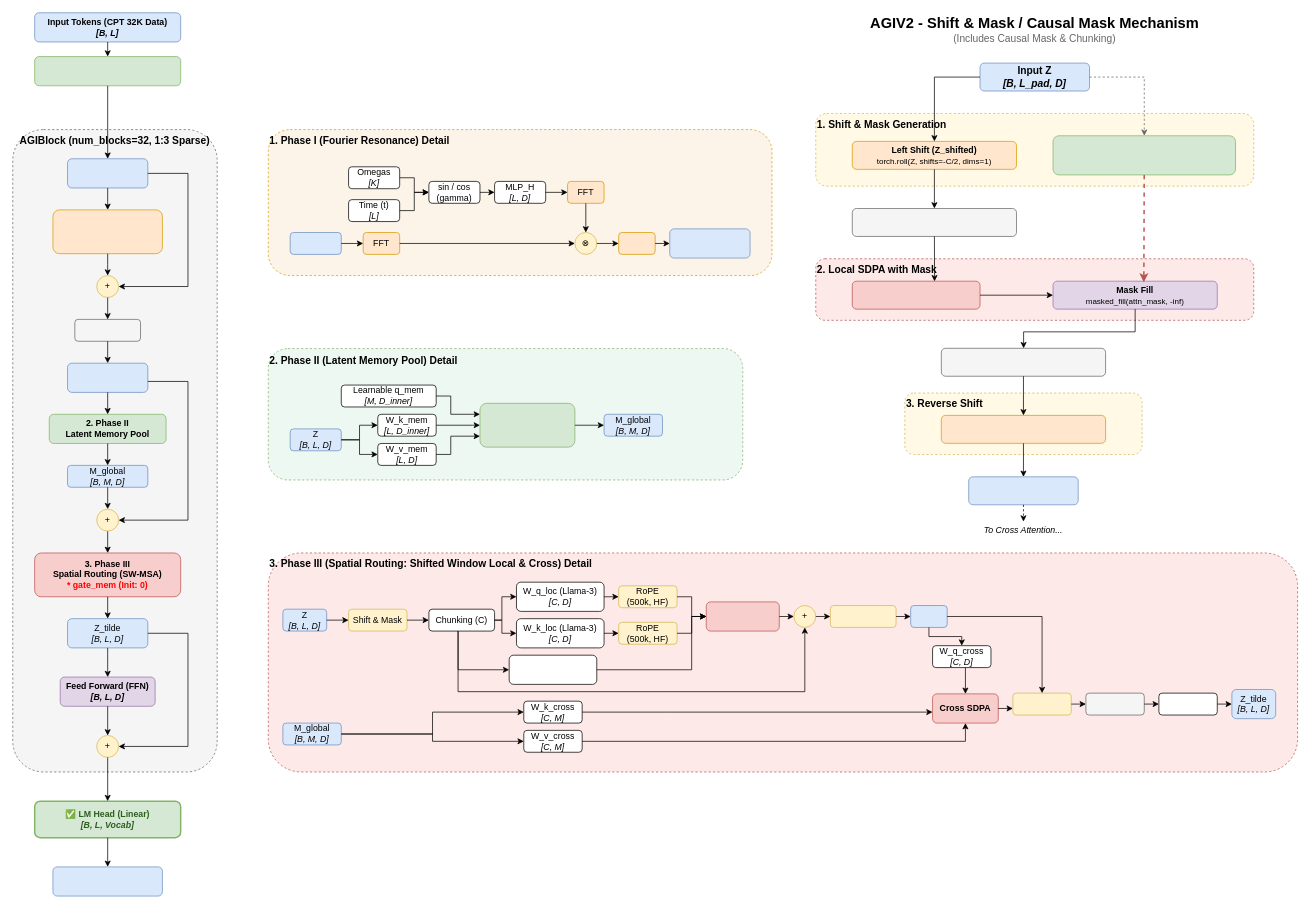
Some shapes in this 1310 by 909 pixel diagram are drawn without their labels. The shapes that lost their labels are listed below. From the top down, each one's centre as x and y in pixels, then its label:
point (107, 71): Embedding (Vocab=128256) [B, L, D]
point (107, 173): Layer Input (X) [B, L, D]
point (1144, 155): Block & Causal Mask block_mask & torch.tril(causal)
point (107, 231): 1. Phase I (FFM) Fourier Resonance * gate_fft (Init: 0)
point (934, 222): Strict Chunking (Z_chunked) view(B, N, C, D)
point (315, 243): X [B, L, D]
point (636, 243): IFFT
point (709, 243): Y_sys1 * gate_fft [B, L, D]
point (916, 294): Local Attention Q, K, V + sdpa_mask
point (107, 330): LayerNorm 1
point (107, 377): Z Tensor [B, L, D]
point (1023, 362): Unchunking (Z_hat_shifted) view(B, L_pad, D)
point (527, 425): Attention (Softmax(QK^T)V)
point (1023, 429): Right Shift (Reverse) torch.roll(..., shifts=+C/2, dims=1)
point (1023, 490): Z_hat [B, L_pad, D]
point (742, 616): Local SDPA & Causal Mask
point (863, 616): Reverse Shift
point (928, 616): Z_hat
point (552, 669): W_v_loc (Llama-3) [C, D]
point (1041, 703): gate_mem
point (1114, 703): LayerNorm 2
point (1187, 703): Unchunking
point (107, 881): Logits (Next Token Pred)
